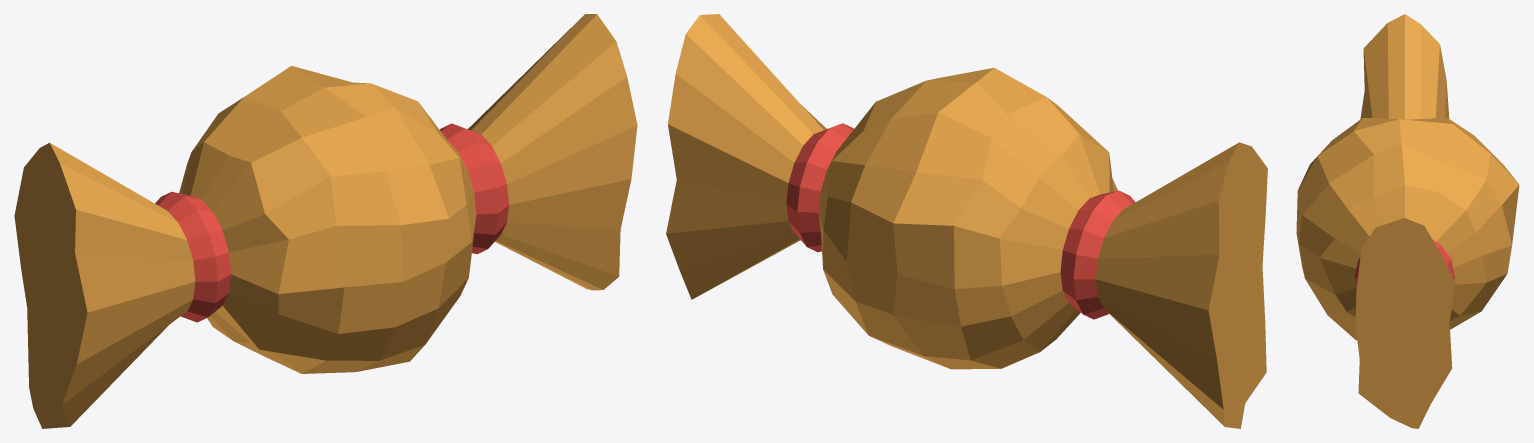
File: candy.fbx
3 views of the same model, side by side, from view 1: azimuth 30°, elevation 25°; view 2: azimuth 150°, elevation 25°; view 3: azimuth 270°, elevation 25° (orthographic). The views are drawn at different scales.
Parts seen in each view (by area): view 1: Sphere; view 2: Sphere; view 3: Sphere.
Part boxes in pixels (x1,y1,x2,y2): Sphere: [14, 14, 637, 428]; Sphere: [666, 14, 1267, 428]; Sphere: [1296, 14, 1519, 428].
Bounding box in the file's own units: 424 × 209 × 194.
